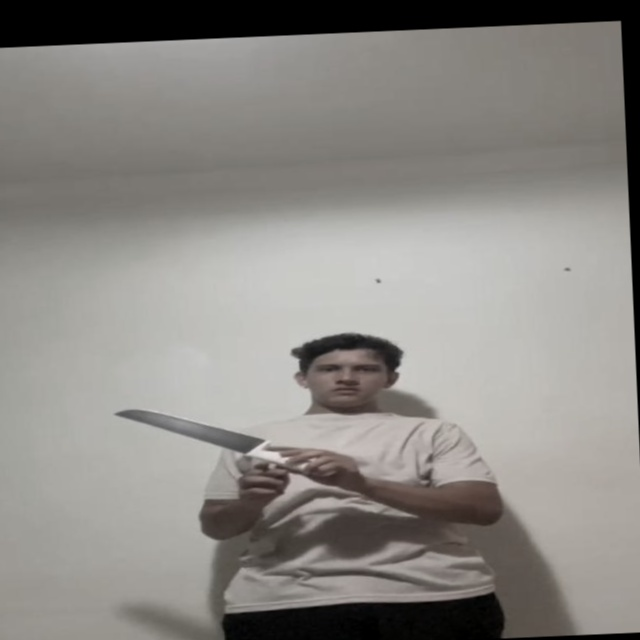Sharp-Object: (104, 401, 265, 450)
